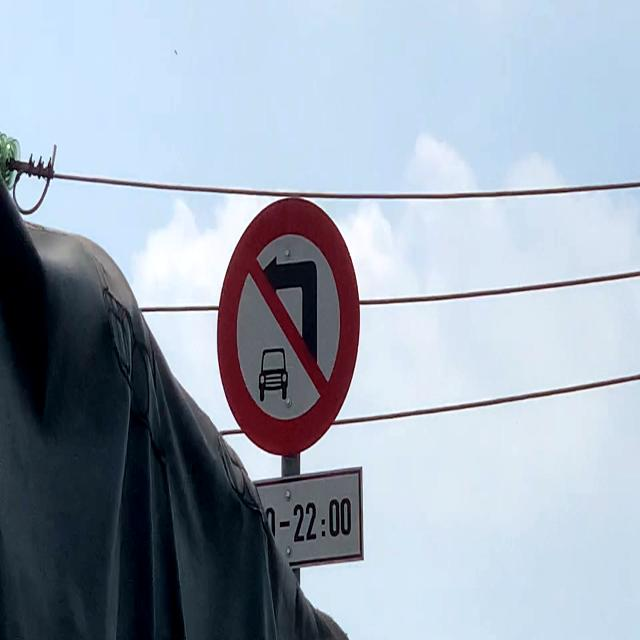P.103c: (217, 197, 361, 457)
